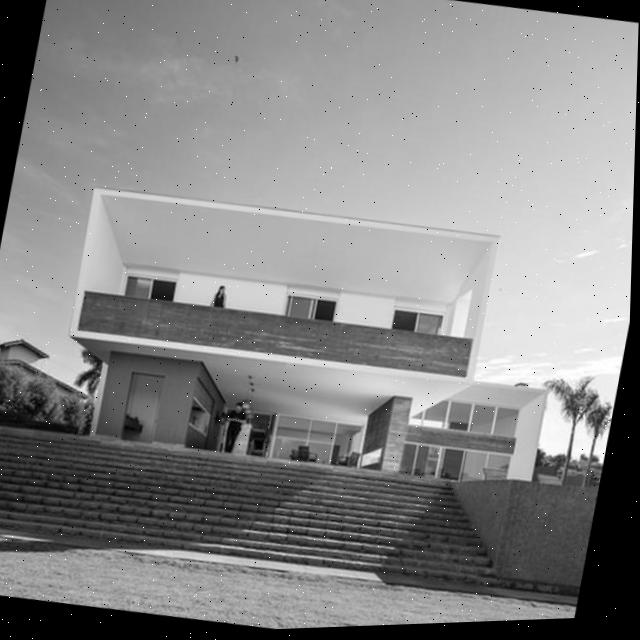building: (47, 167, 581, 507), (0, 322, 101, 424)
